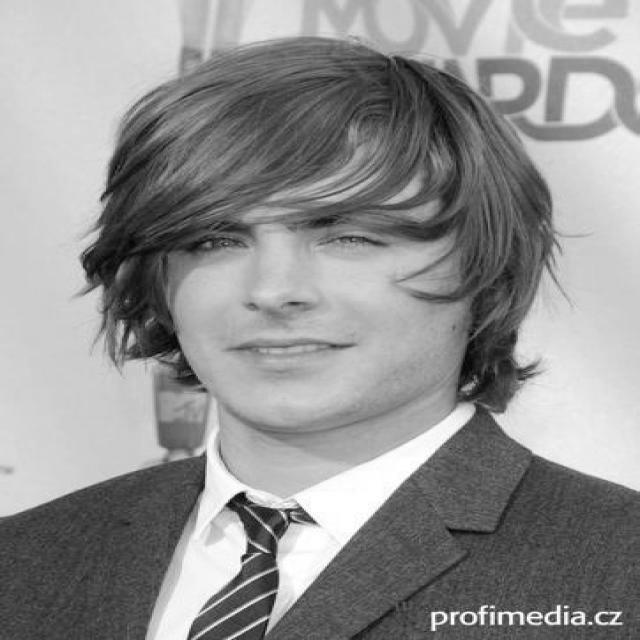real: (124, 102, 496, 439)
